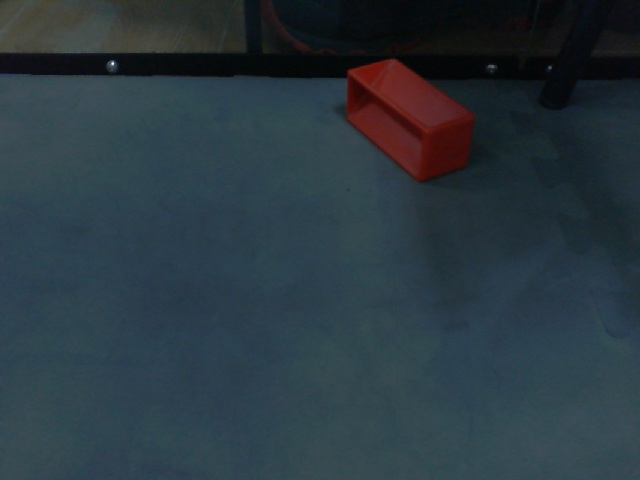RedSample: (343, 57, 477, 185)
